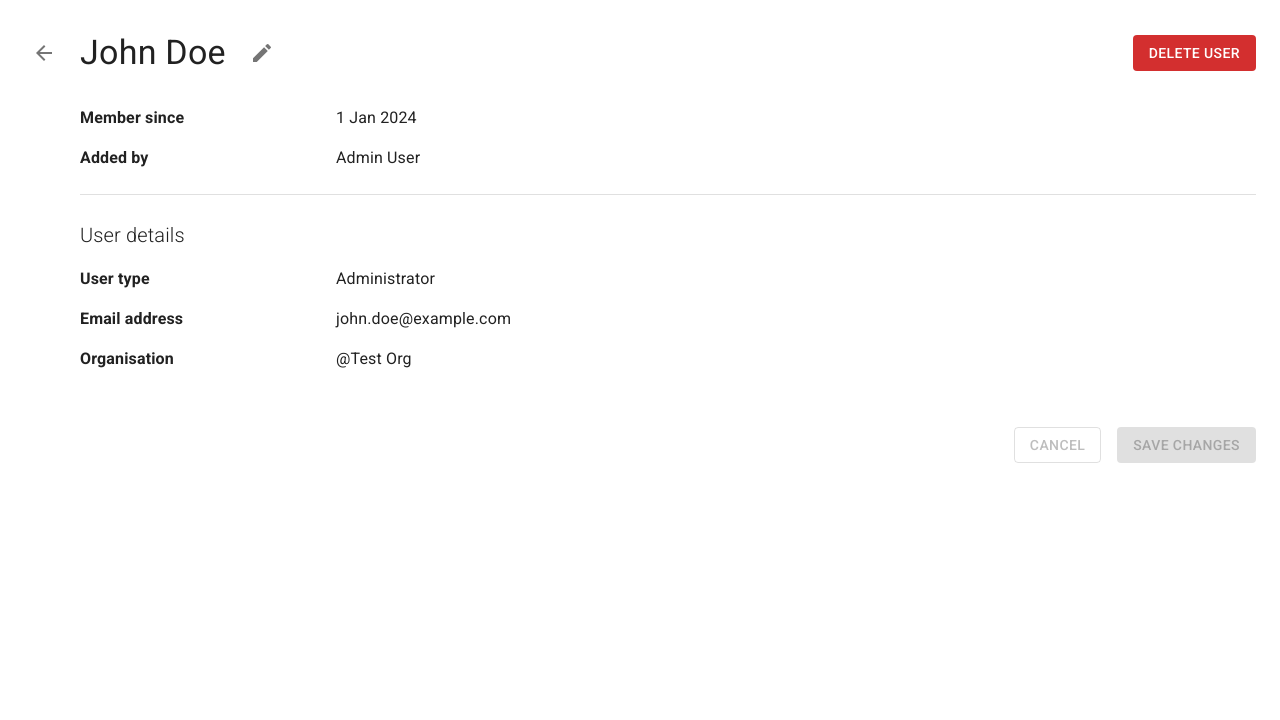
it: Profile › Delete User Functionality › opens confirmation modal when delete user is clicked
Click the button "DELETE USER". click: (1194, 53)
box: [1133,35,1256,71]
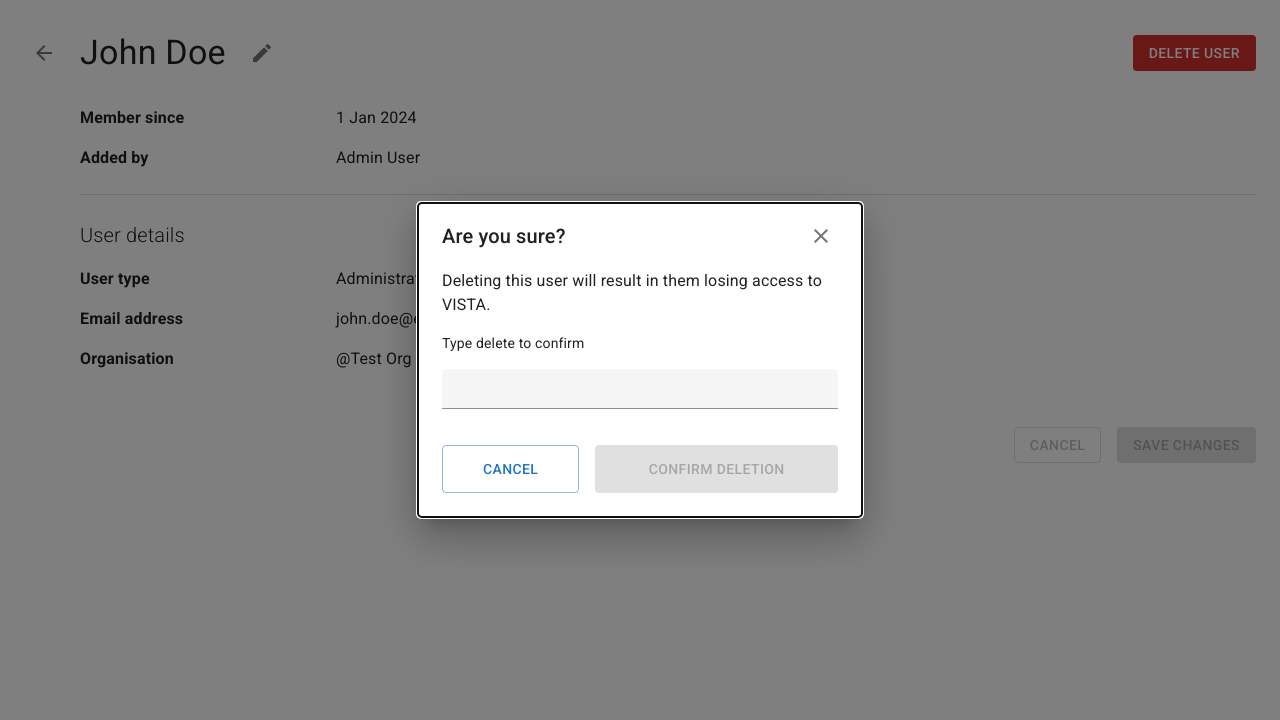
Now the heading "Are you sure?" is shown, box [442,219,838,253]
